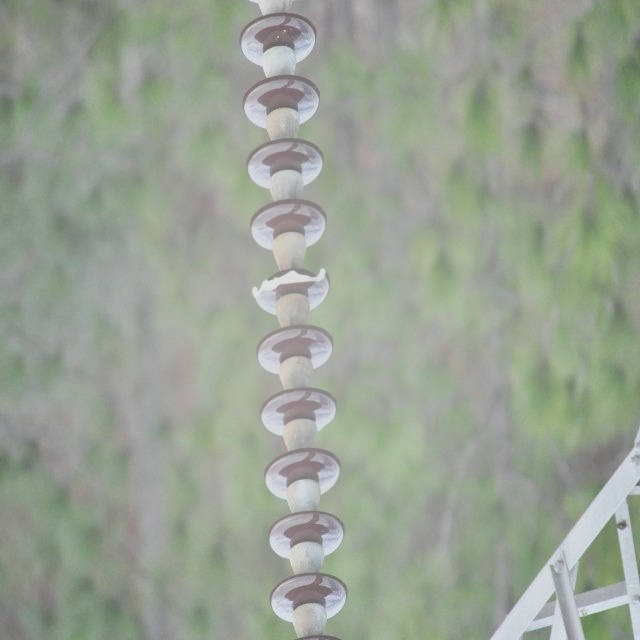broken: (250, 267, 328, 297)
insulator: (239, 16, 349, 620)
